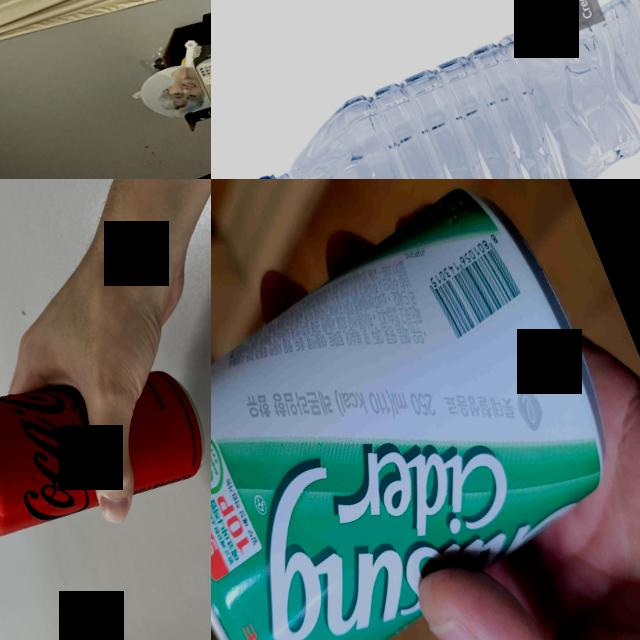bottle: (211, 0, 640, 179)
can: (211, 179, 640, 640), (0, 319, 211, 560)
